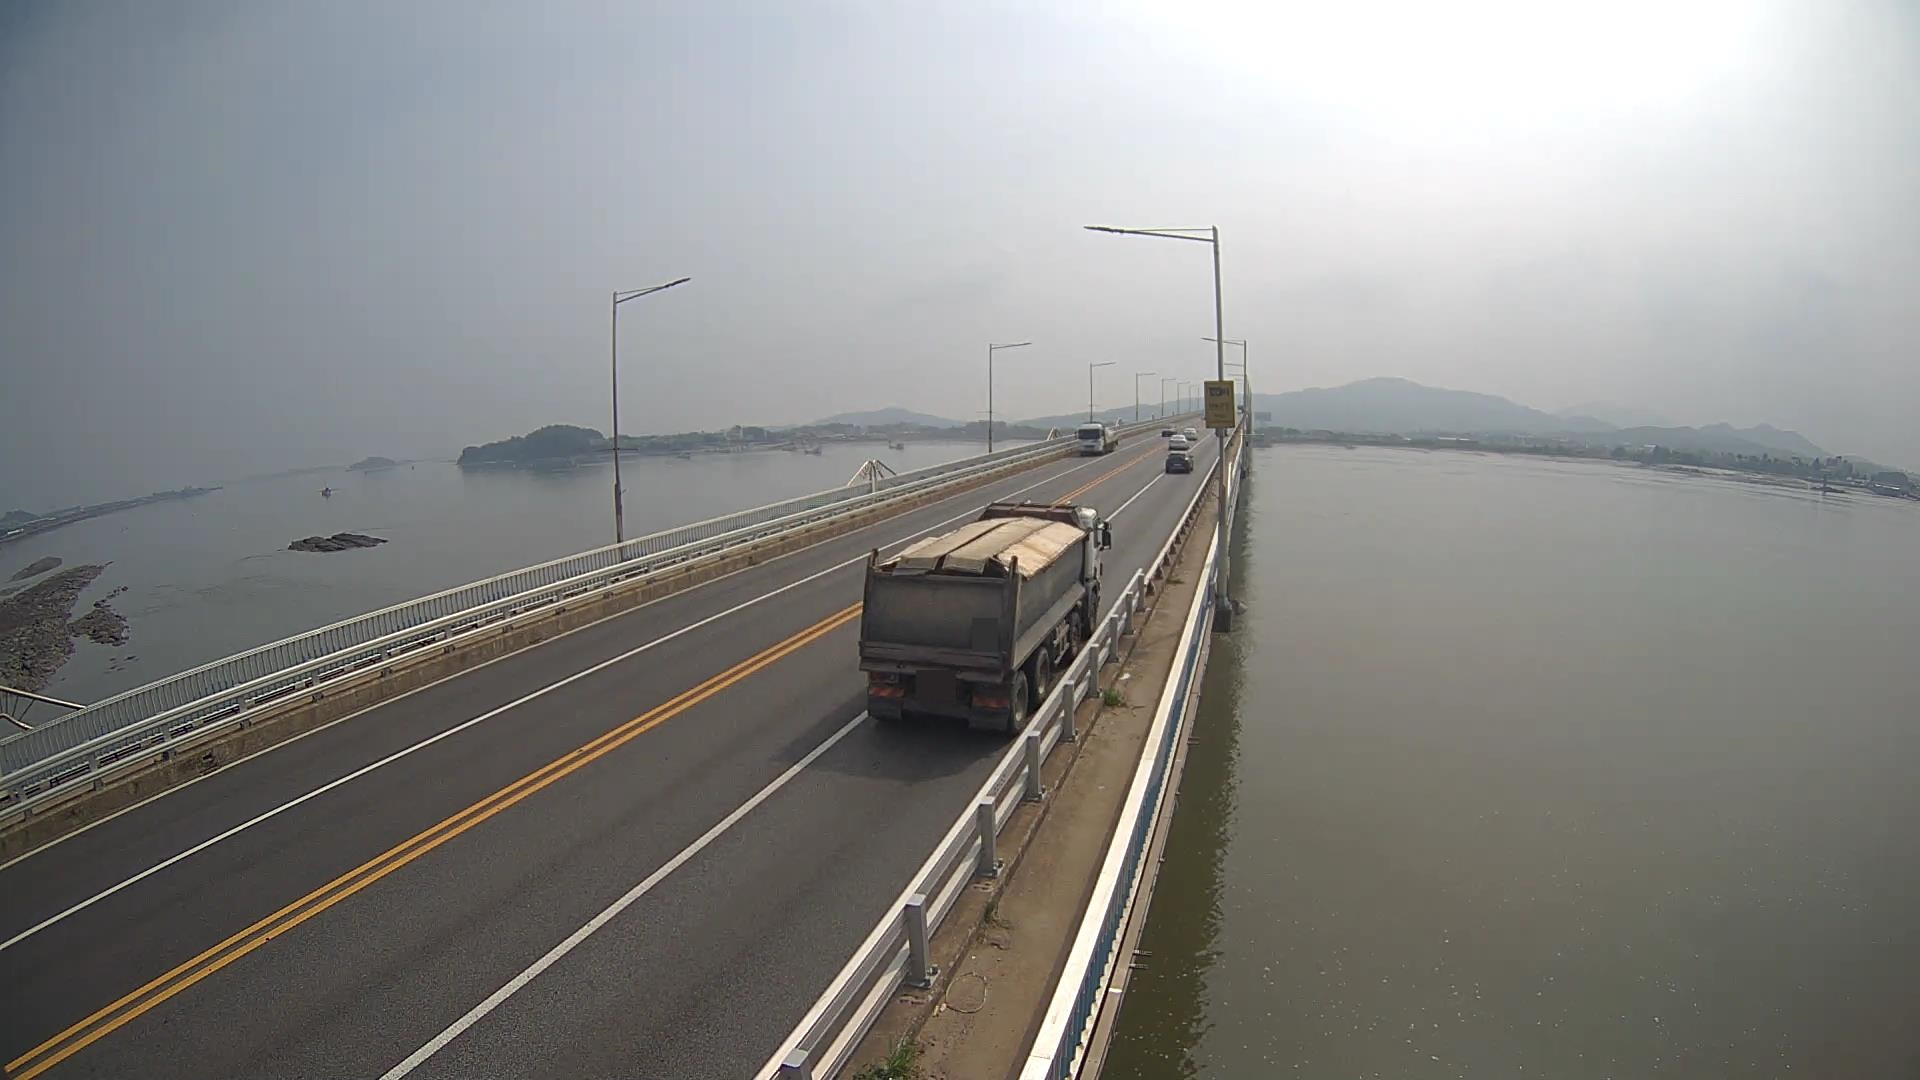정상차량: (858, 500, 1111, 736)
